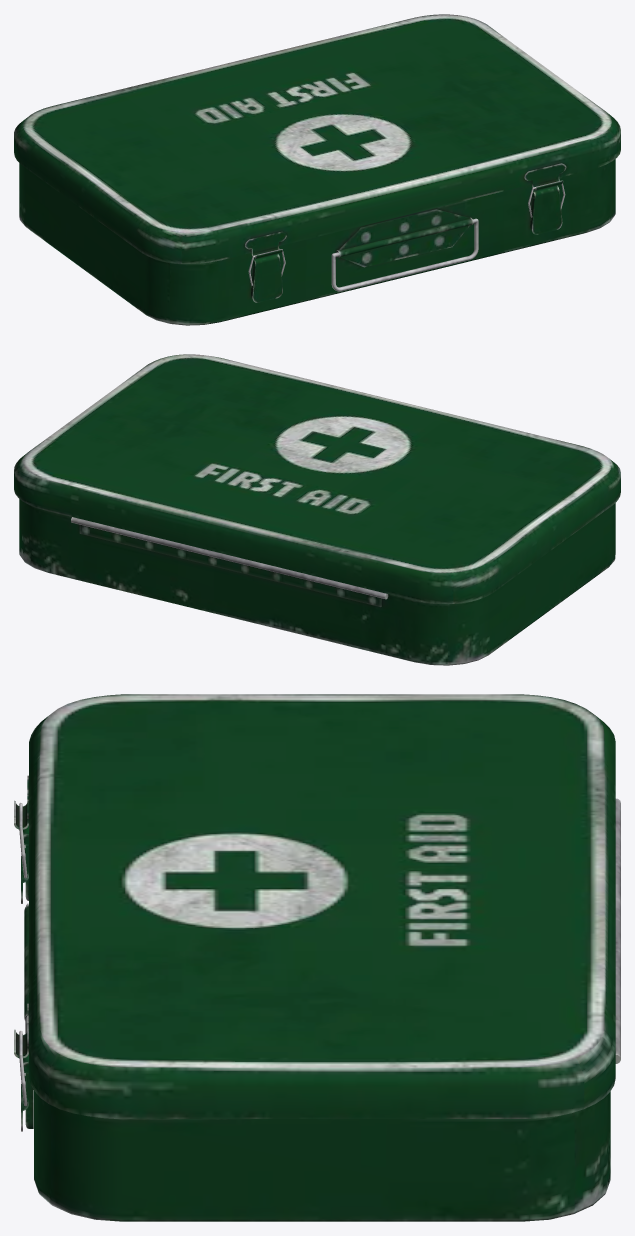
File: medical_box.glb
3 renders of one model, top to bottom at view 1: azimuth 30°, elevation 25°; view 2: azimuth 150°, elevation 25°; view 3: azimuth 270°, elevation 25°, orthographic. The views are drawn at different scales.
Visible parts, largest first — view 1: medical_box_lid, medical_box, medical_box_latch, medical_box_handle; view 2: medical_box_lid, medical_box; view 3: medical_box_lid, medical_box.
Part boxes in pixels (x1,y1,x2,y2): medical_box_lid: (14, 14, 620, 263); medical_box: (19, 159, 615, 325); medical_box_latch: (251, 185, 562, 302); medical_box_handle: (331, 218, 478, 291); medical_box_lid: (14, 354, 620, 603); medical_box: (19, 499, 615, 665); medical_box_lid: (14, 694, 615, 1118); medical_box: (24, 798, 620, 1221).
Size of the model in its own units: 0.5255 by 0.0975 by 0.3502.
Materials: 1 (1 with a texture image).
